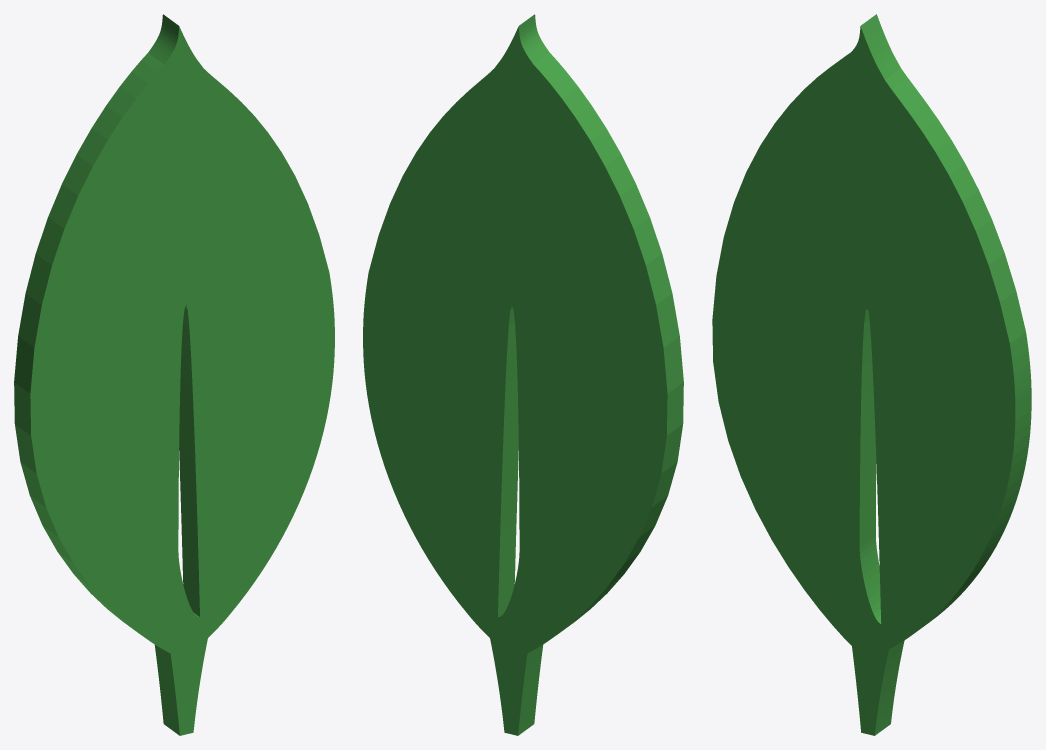
The model's file is MongoDB.glb.
3 renders of one model, left to right at view 1: azimuth 30°, elevation 25°; view 2: azimuth 150°, elevation 25°; view 3: azimuth 330°, elevation 25°, orthographic.
Bounding box in the file's own units: 0.2114 × 0.4712 × 0.0196.
